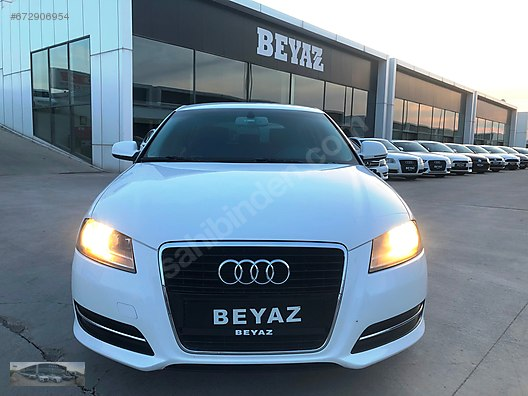audi: (211, 250, 295, 288)
